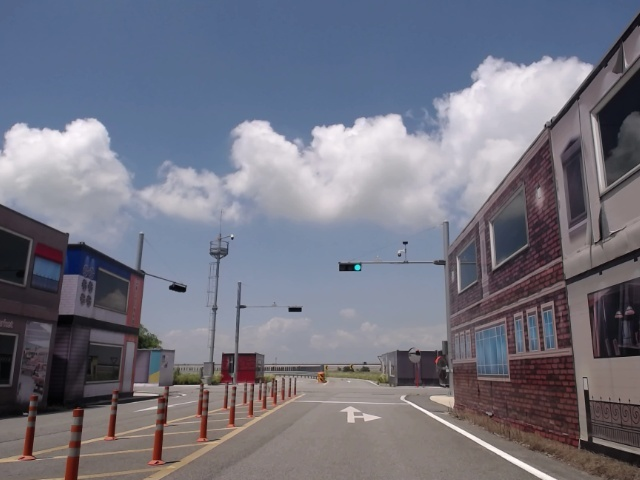green_3: (340, 264, 362, 271)
